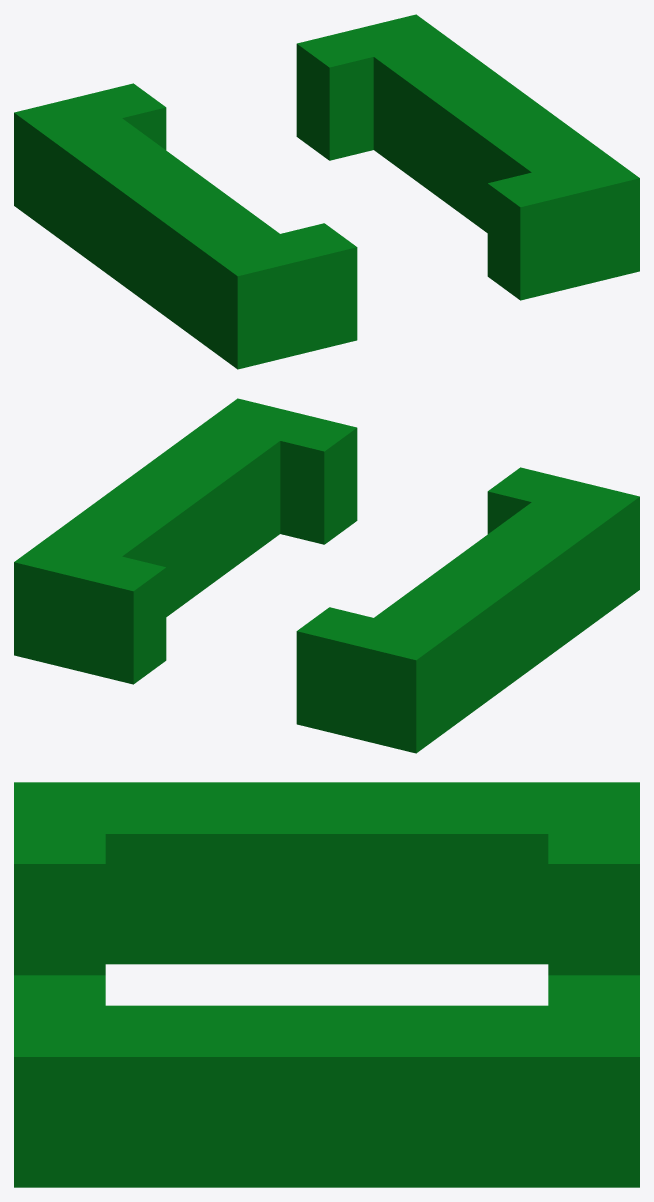
Rendered from IconArray.glb.
3 views of the same model, one above another, from view 1: azimuth 30°, elevation 25°; view 2: azimuth 150°, elevation 25°; view 3: azimuth 270°, elevation 25° (orthographic). The views are drawn at different scales.
Parts seen in each view (by area): view 1: IconArray; view 2: IconArray; view 3: IconArray.
Boxes of the visible parts, x1,y1,x2,y2 form: IconArray: (14,14,639,369); IconArray: (14,398,639,753); IconArray: (14,782,639,1187).
Bounding box in the file's own units: 1.49 × 0.3311 × 1.44.
